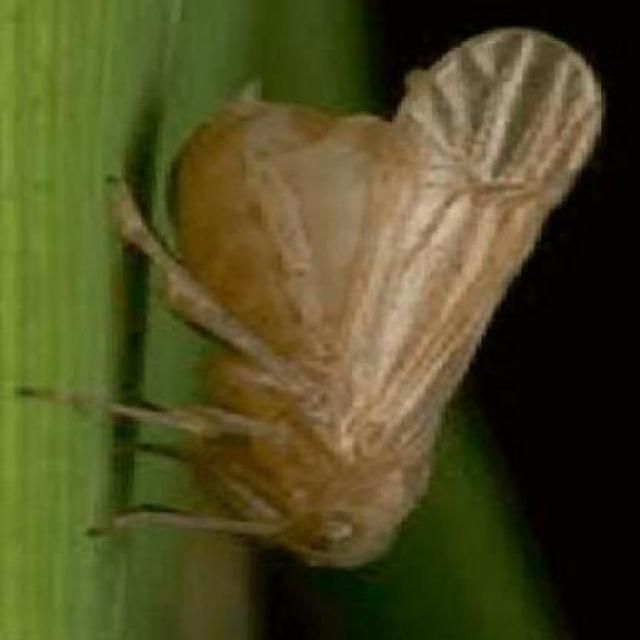brown-planthopper: (172, 21, 596, 573)
